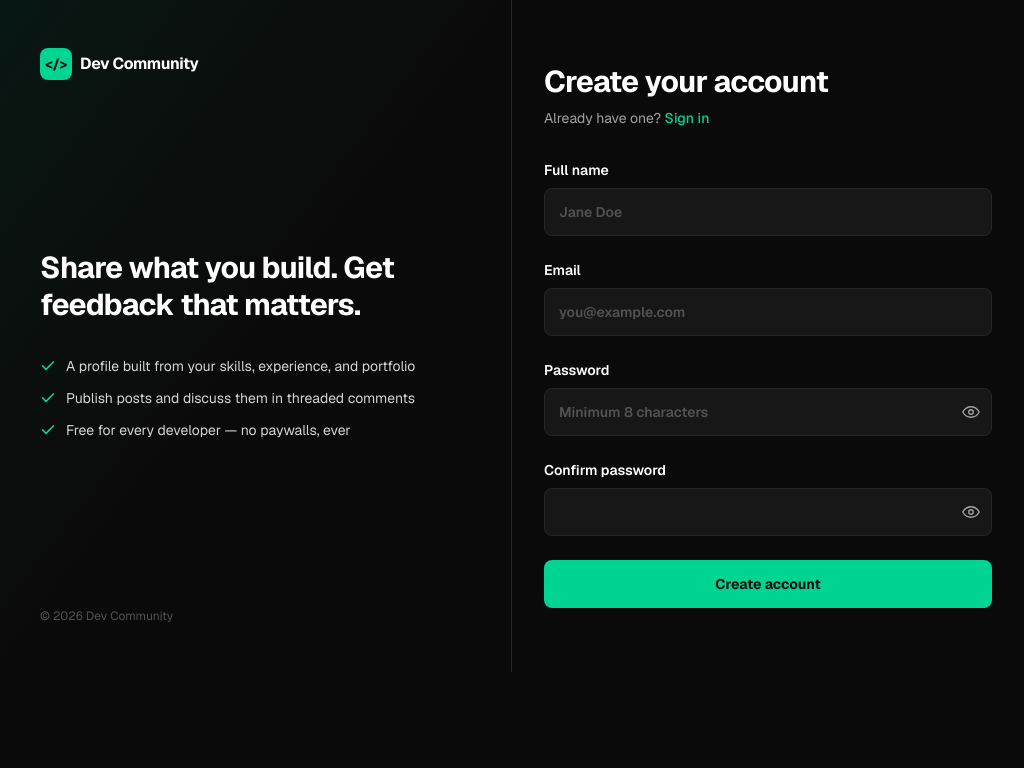
Test: SignupForm › shows 'Passwords do not match' and does not submit when the confirmation differs
This screenshot has width=1024, height=768.
Type "  Ada Lovelace  " into the field labelled "Full name" at (768, 212), box [544,188,992,236]
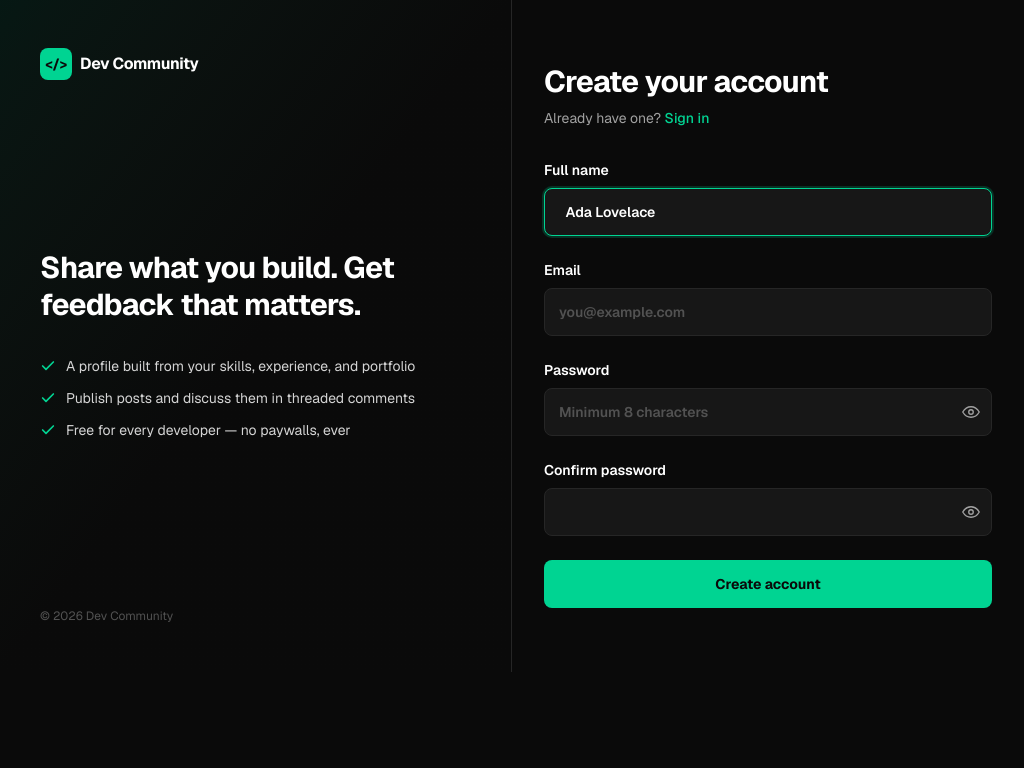
Type "ada@example.com" into the field labelled "Email" at (768, 312), box [544,288,992,336]
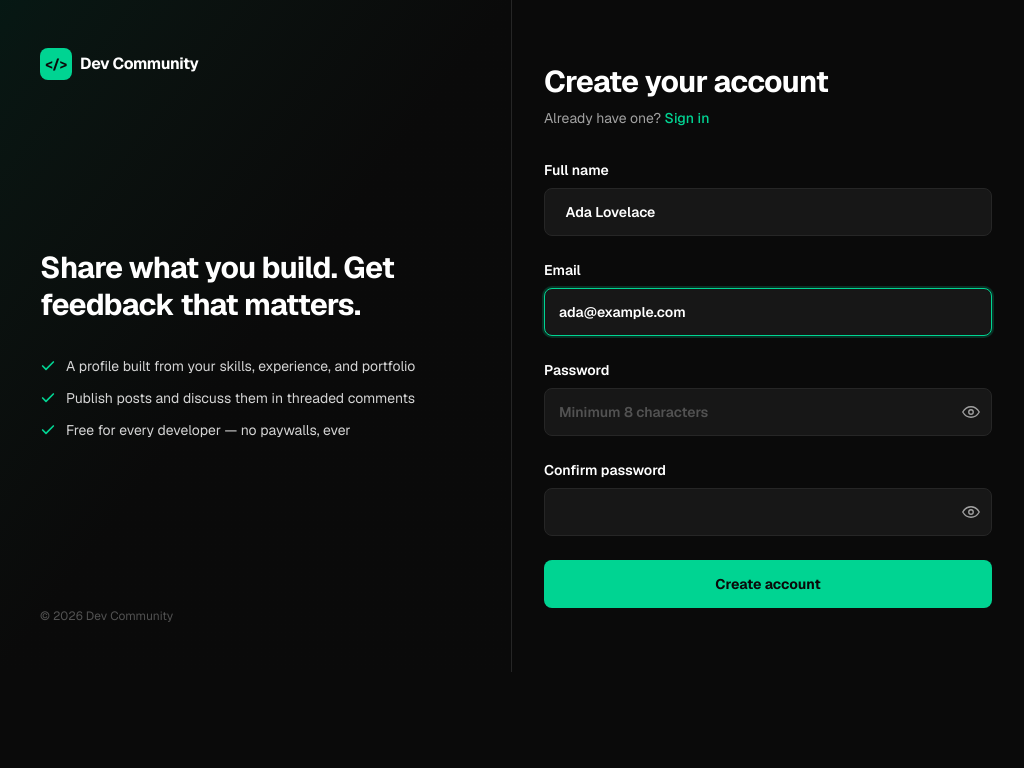
Type "long-enough-1" into the password field labelled "Password" at (768, 412), box [544,388,992,436]
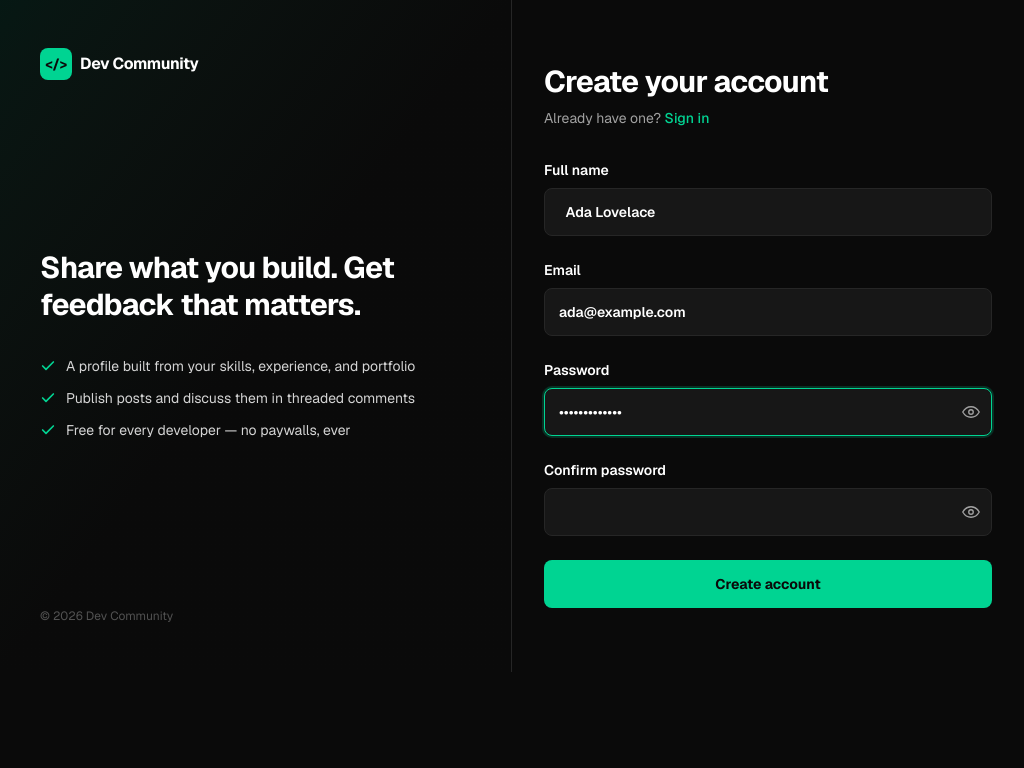
Type "something-else-1" into the password field labelled "Confirm password" at (768, 512), box [544,488,992,536]
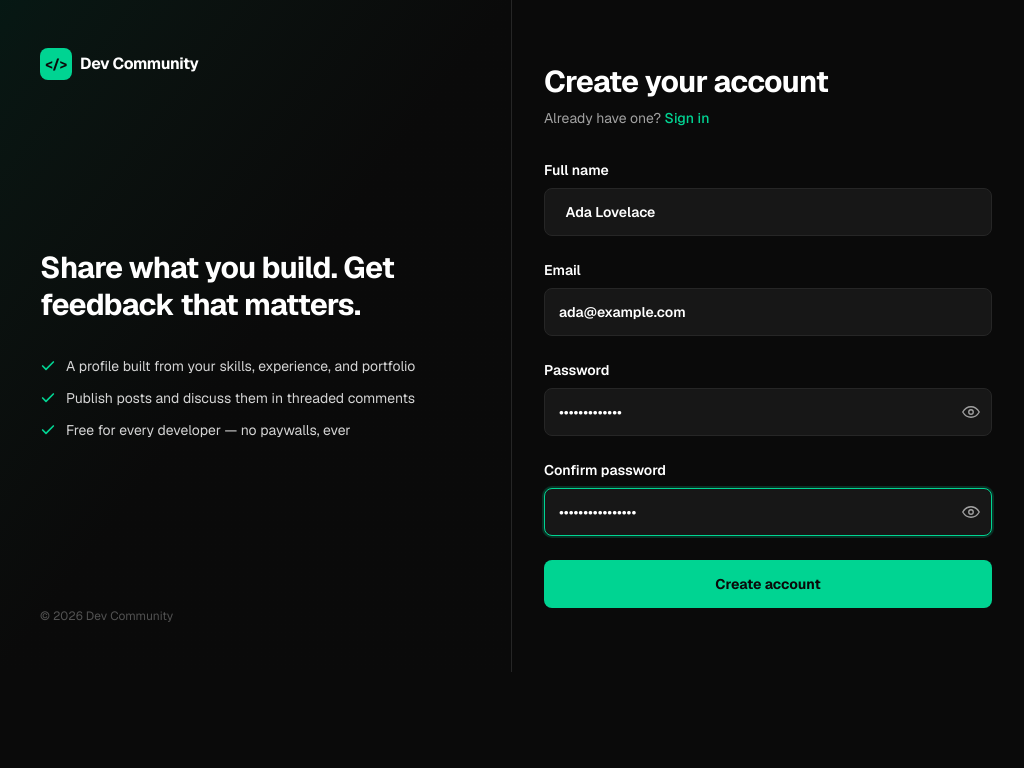
Click the button "Create account" at (768, 584), box [544,560,992,608]
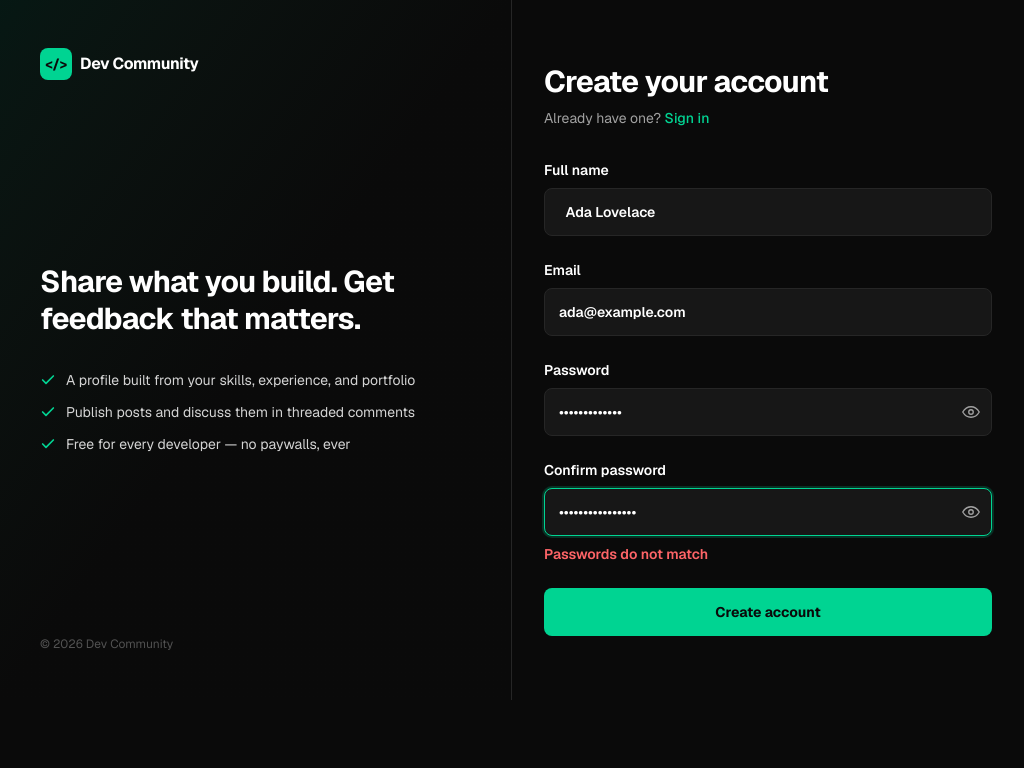
Expected: the text "Passwords do not match" is shown, [544,545,708,563]
